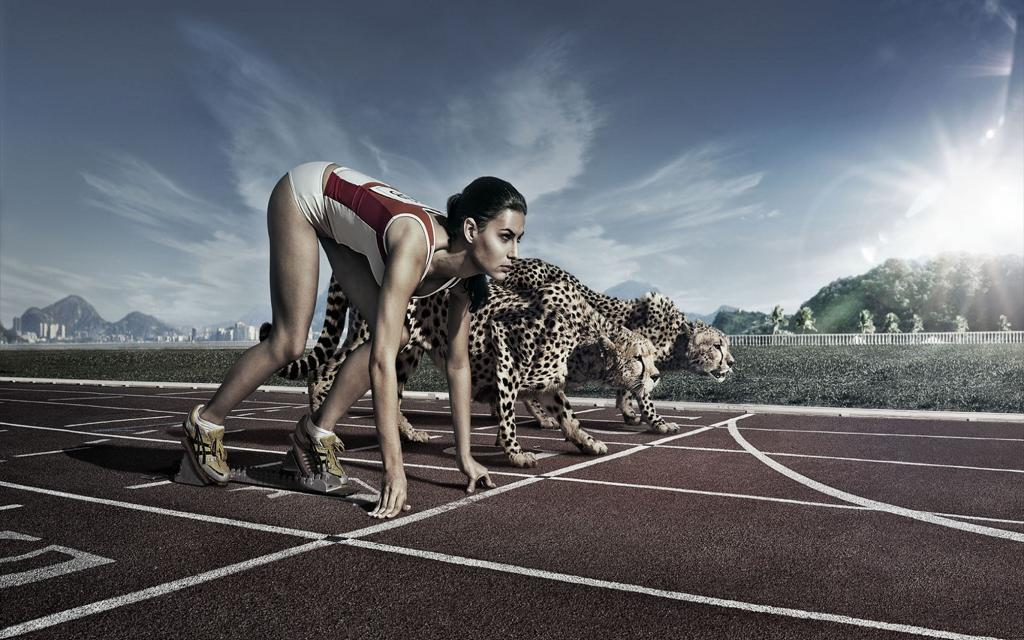face: (478, 209, 525, 282)
